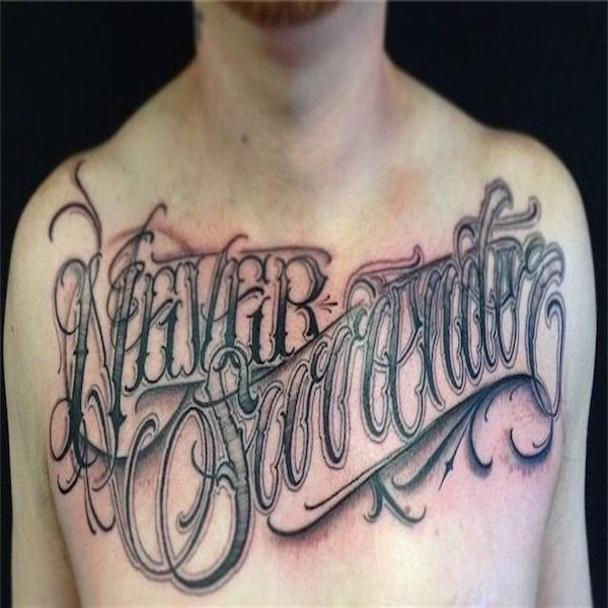tattoos: (47, 156, 567, 599)
